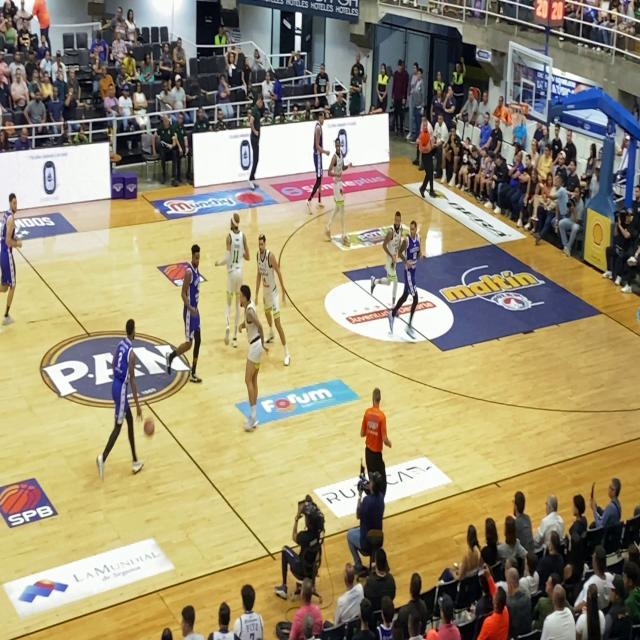Ball: (142, 404, 158, 446)
referee: (348, 384, 398, 480), (414, 113, 443, 204)
team1: (227, 278, 267, 434), (210, 197, 252, 341), (252, 231, 292, 370), (369, 200, 407, 316), (318, 136, 352, 252)
team2: (90, 305, 147, 486), (171, 239, 208, 405), (386, 215, 425, 353), (1, 188, 25, 336), (302, 98, 332, 214)
ubasket: (510, 100, 527, 130)
